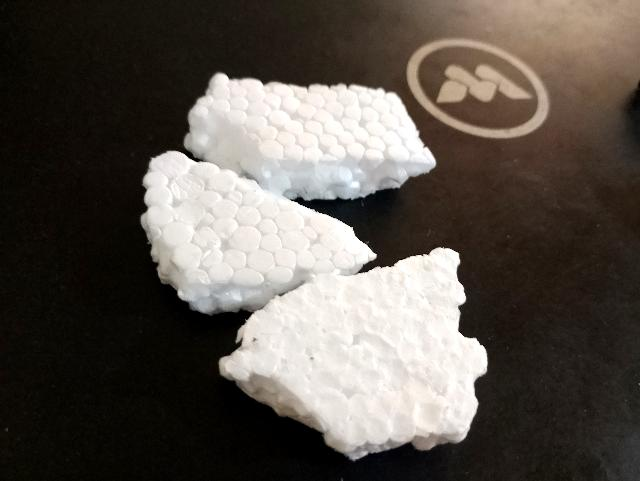cocksheet: (221, 240, 489, 479), (134, 120, 389, 311), (210, 77, 430, 189)
